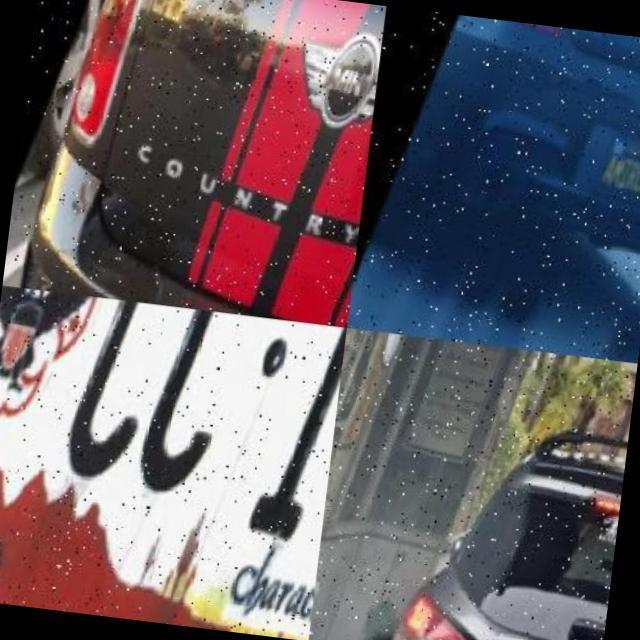license_plate: (24, 293, 346, 627), (587, 122, 640, 220)
